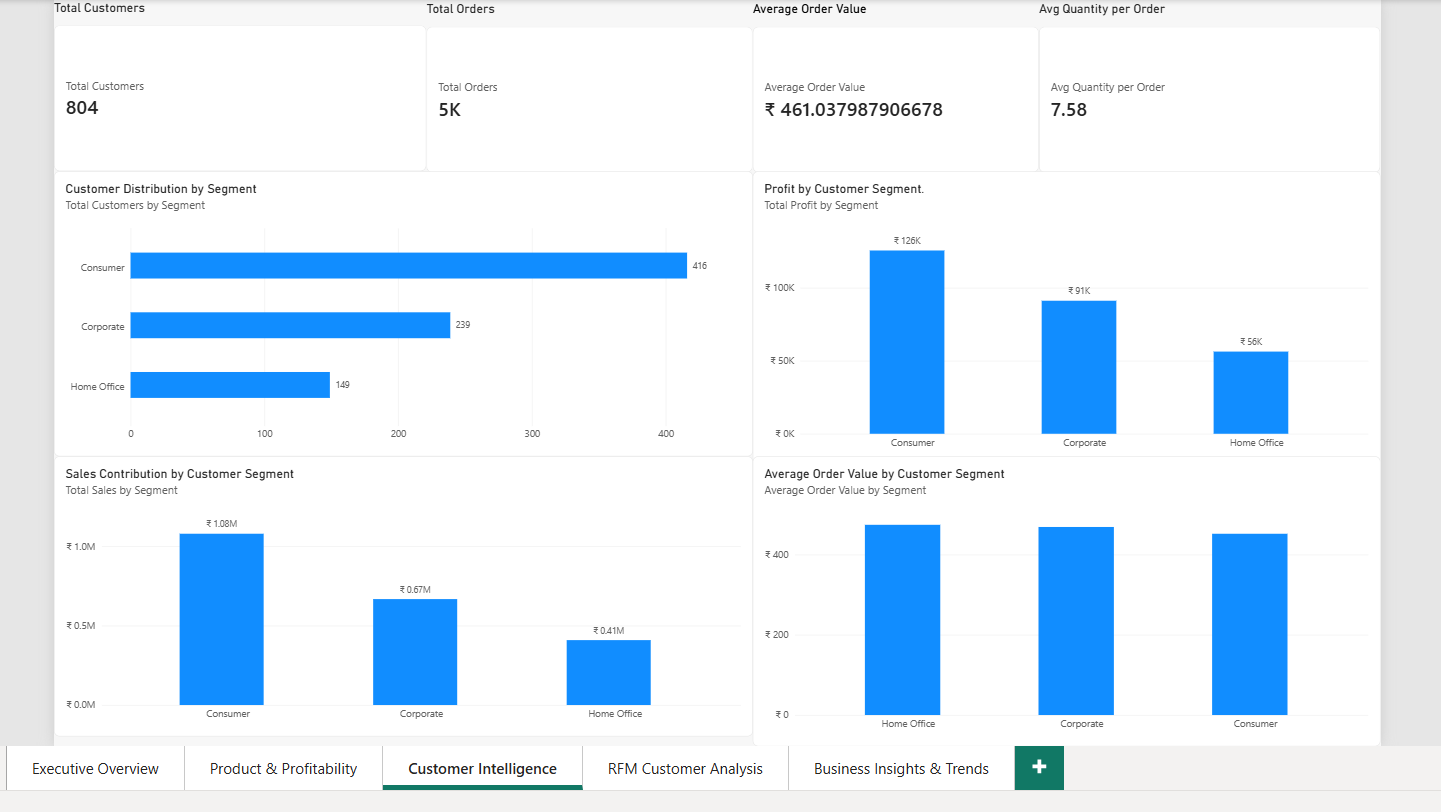

Layout of this report page (visuals, bound fields, positions):
{"tool":"powerbi","page":{"name":"Customer Intelligence ","canvas":[1920,1080],"ordinal":2},"visuals":[{"type":"cardVisual","title":"Total Customers","fields":{"Data":["Orders.Total Customers"]},"box":[0,0,539.3,247.9],"z":0},{"type":"cardVisual","title":"Total Orders","fields":{"Data":["Orders.Total Orders"]},"box":[539.3,1.8,472.3,247.9],"z":1000},{"type":"cardVisual","title":"Average Order Value","fields":{"Data":["Orders.Average Order Value"]},"box":[1011.6,1.8,414.4,247.9],"z":2000},{"type":"cardVisual","title":"Avg Quantity per Order","fields":{"Data":["Orders.Avg Quantity per Order"]},"box":[1426,1.8,494,247.9],"z":2001},{"type":"clusteredBarChart","title":"Customer Distribution by Segment","fields":{"Category":["Orders.Segment"],"Y":["Orders.Total Customers"]},"box":[0,247.9,1011.6,412.6],"z":2002},{"type":"clusteredColumnChart","title":"Sales Contribution by Customer Segment","fields":{"Category":["Orders.Segment"],"Y":["Orders.Total Sales"]},"box":[0,660.5,1011.6,405.4],"z":2003},{"type":"clusteredColumnChart","title":"Profit by Customer Segment.","fields":{"Category":["Orders.Segment"],"Y":["Orders.Total Profit"]},"box":[1011.6,247.9,908.4,425.3],"z":2004},{"type":"clusteredColumnChart","title":"Average Order Value by Customer Segment","fields":{"Category":["Orders.Segment"],"Y":["Orders.Average Order Value"]},"box":[1011.6,660.5,908.4,419.8],"z":2005}]}

Visuals, with their boxes on the page's 1920x1080 design canvas (x1, y1, x2, y2). These are canvas units, not pixel positions in the 1441x812 screenshot, which may show the page scaled, cropped or inside an application window:
"Total Customers" cardVisual: Rect(0, 0, 539, 248)
"Total Orders" cardVisual: Rect(539, 2, 1012, 250)
"Average Order Value" cardVisual: Rect(1012, 2, 1426, 250)
"Avg Quantity per Order" cardVisual: Rect(1426, 2, 1920, 250)
"Customer Distribution by Segment" clusteredBarChart: Rect(0, 248, 1012, 660)
"Sales Contribution by Customer Segment" clusteredColumnChart: Rect(0, 660, 1012, 1066)
"Profit by Customer Segment." clusteredColumnChart: Rect(1012, 248, 1920, 673)
"Average Order Value by Customer Segment" clusteredColumnChart: Rect(1012, 660, 1920, 1080)
